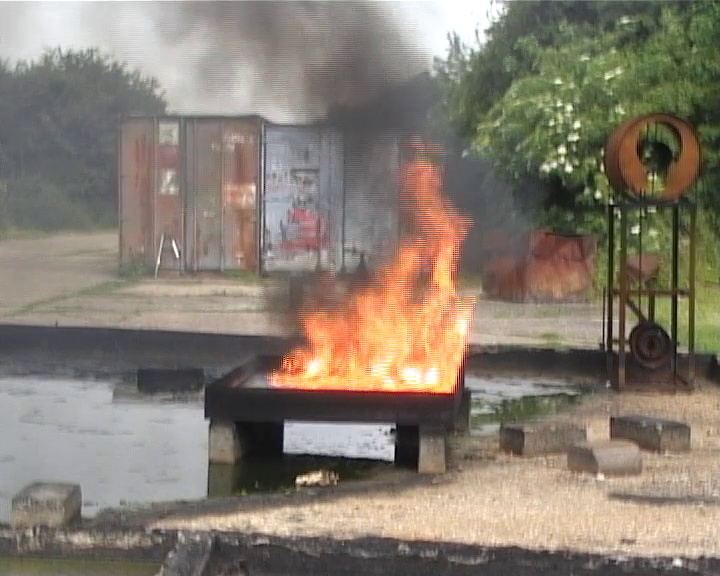fire: (275, 160, 485, 389)
